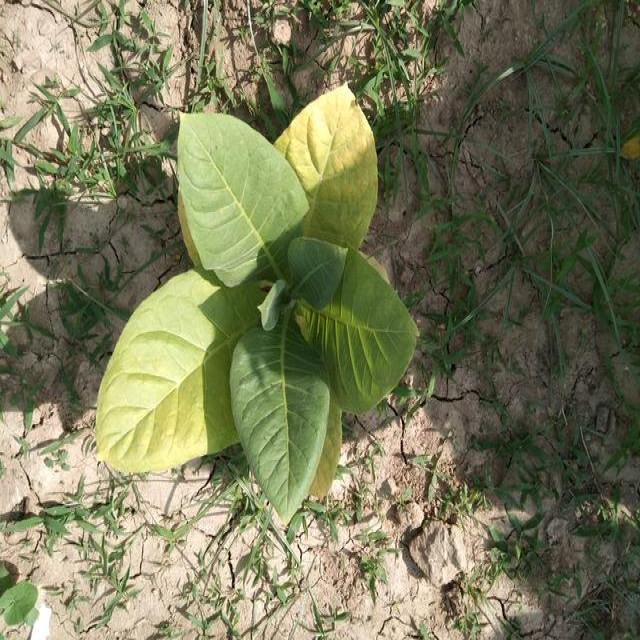crop: (92, 81, 415, 522)
